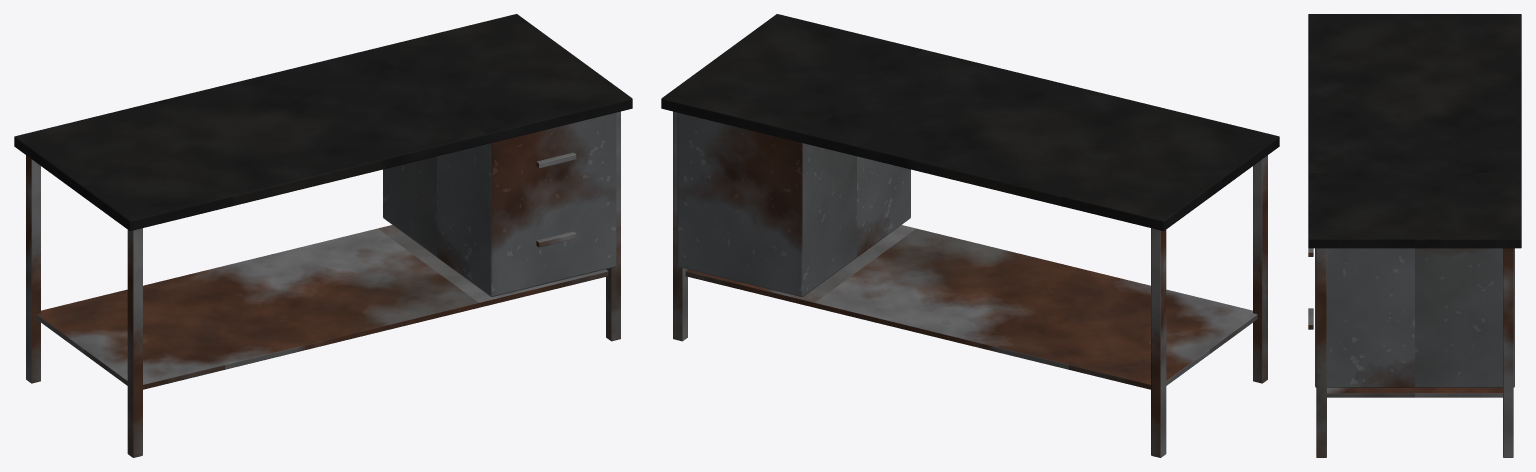
The model's file is Y01_lab_table_v1.glb.
The picture shows the model from 3 angles, left to right: view 1: azimuth 30°, elevation 25°; view 2: azimuth 150°, elevation 25°; view 3: azimuth 270°, elevation 25°; orthographic projection. The views are drawn at different scales.
Visible parts, largest first — view 1: Y01_lab_table_v1; view 2: Y01_lab_table_v1; view 3: Y01_lab_table_v1.
Boxes of the visible parts, x1,y1,x2,y2 form: Y01_lab_table_v1: [14, 14, 632, 457]; Y01_lab_table_v1: [661, 14, 1279, 457]; Y01_lab_table_v1: [1308, 14, 1521, 457].
Bounding box in the file's own units: 2 × 0.92 × 0.8.
3 materials, 3 textured.
